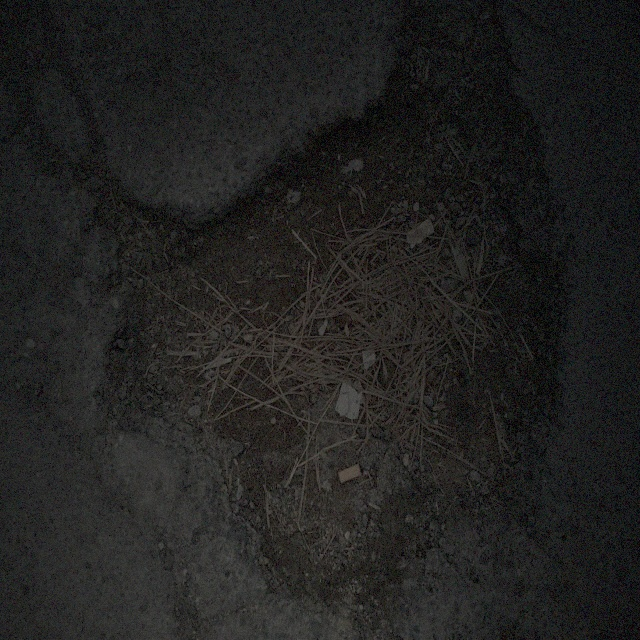pothole: (98, 85, 576, 605)
